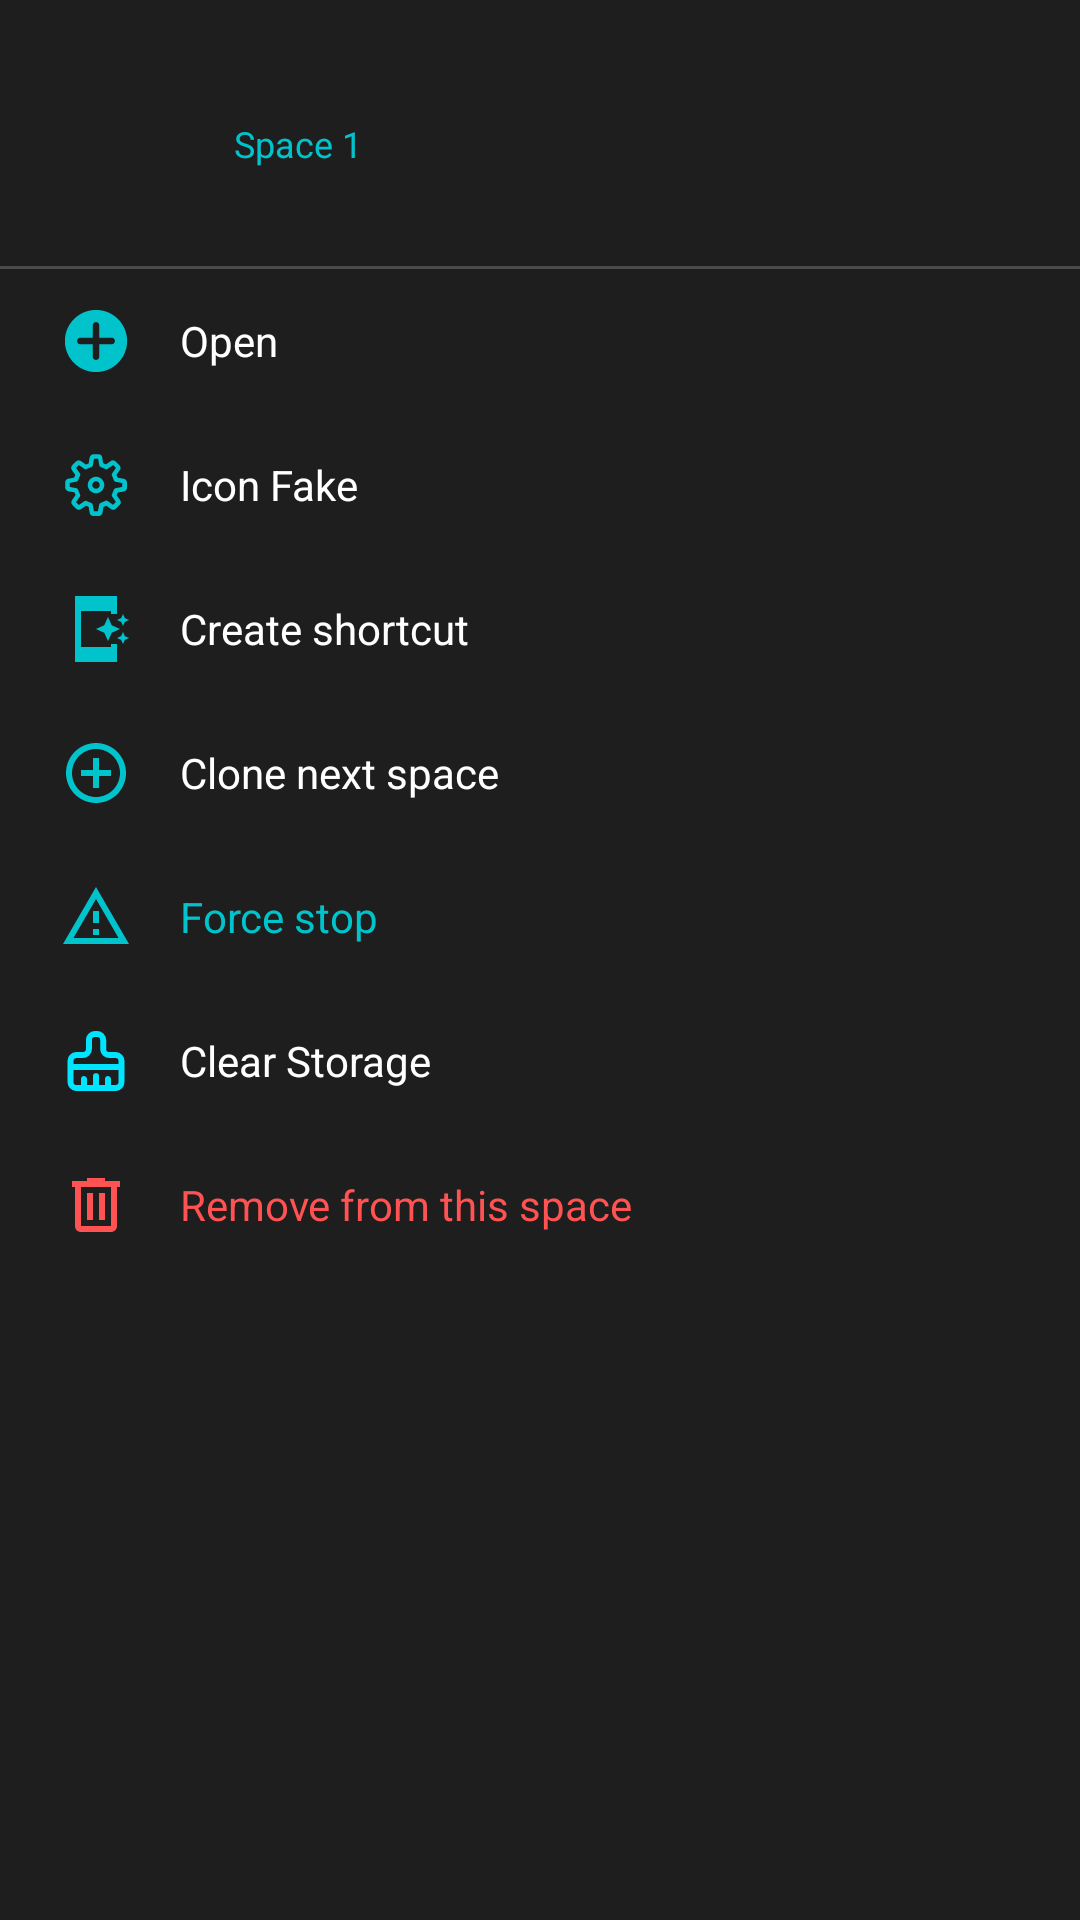

Icon bounding boxes for this 1080px×1920px phone screenshot, format (x1=x1, y1=y1, x2=x2, y2=y2):
clean: (x1=67, y1=1031, x2=125, y2=1091)
install: (x1=65, y1=310, x2=127, y2=372)
setting: (x1=65, y1=454, x2=127, y2=516)
uninstall: (x1=72, y1=1178, x2=120, y2=1232)
